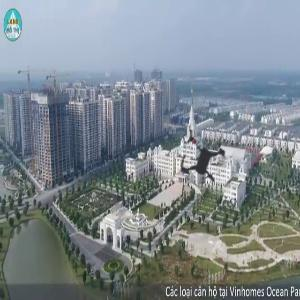drone: (149, 103, 264, 218)
